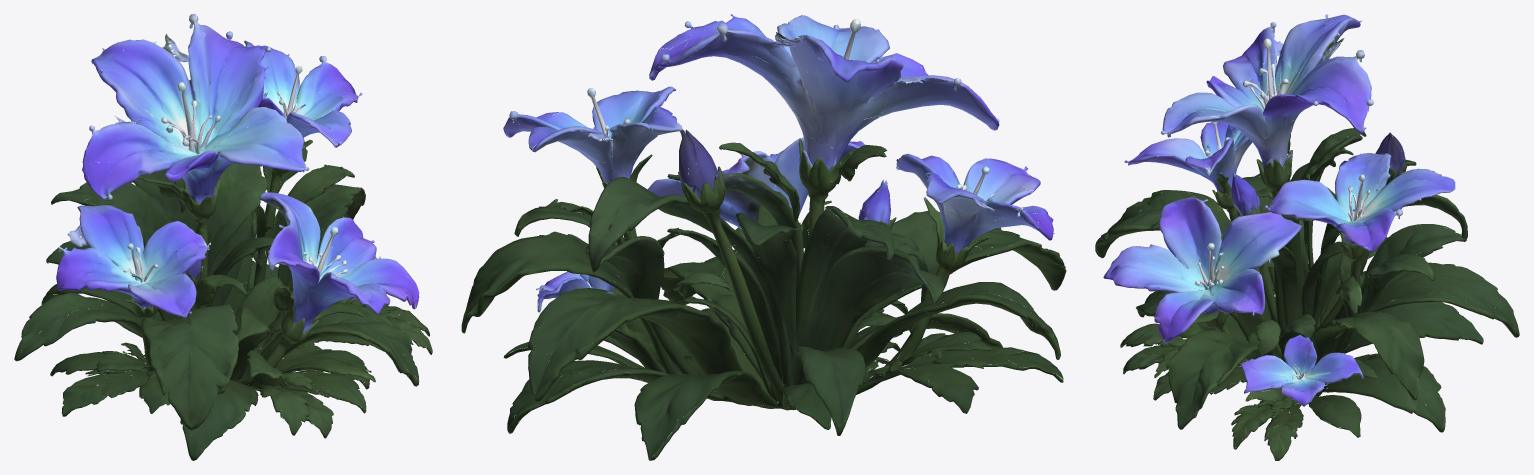
File: lily.glb
3 renders of one model, left to right at view 1: azimuth 30°, elevation 25°; view 2: azimuth 150°, elevation 25°; view 3: azimuth 270°, elevation 25°, orthographic. The views are drawn at different scales.
Parts seen in each view (by area): view 1: tripo_node_3ac85c27-7ff1-41da-8a35-346d97847610; view 2: tripo_node_3ac85c27-7ff1-41da-8a35-346d97847610; view 3: tripo_node_3ac85c27-7ff1-41da-8a35-346d97847610.
Part boxes in pixels (box(x1,y1,x2,y2)): tripo_node_3ac85c27-7ff1-41da-8a35-346d97847610: box(14, 14, 432, 460); tripo_node_3ac85c27-7ff1-41da-8a35-346d97847610: box(461, 14, 1066, 460); tripo_node_3ac85c27-7ff1-41da-8a35-346d97847610: box(1095, 14, 1519, 460).
Size of the model in its own units: 2.09 by 1.6 by 1.91.
1 material, 1 textured.
